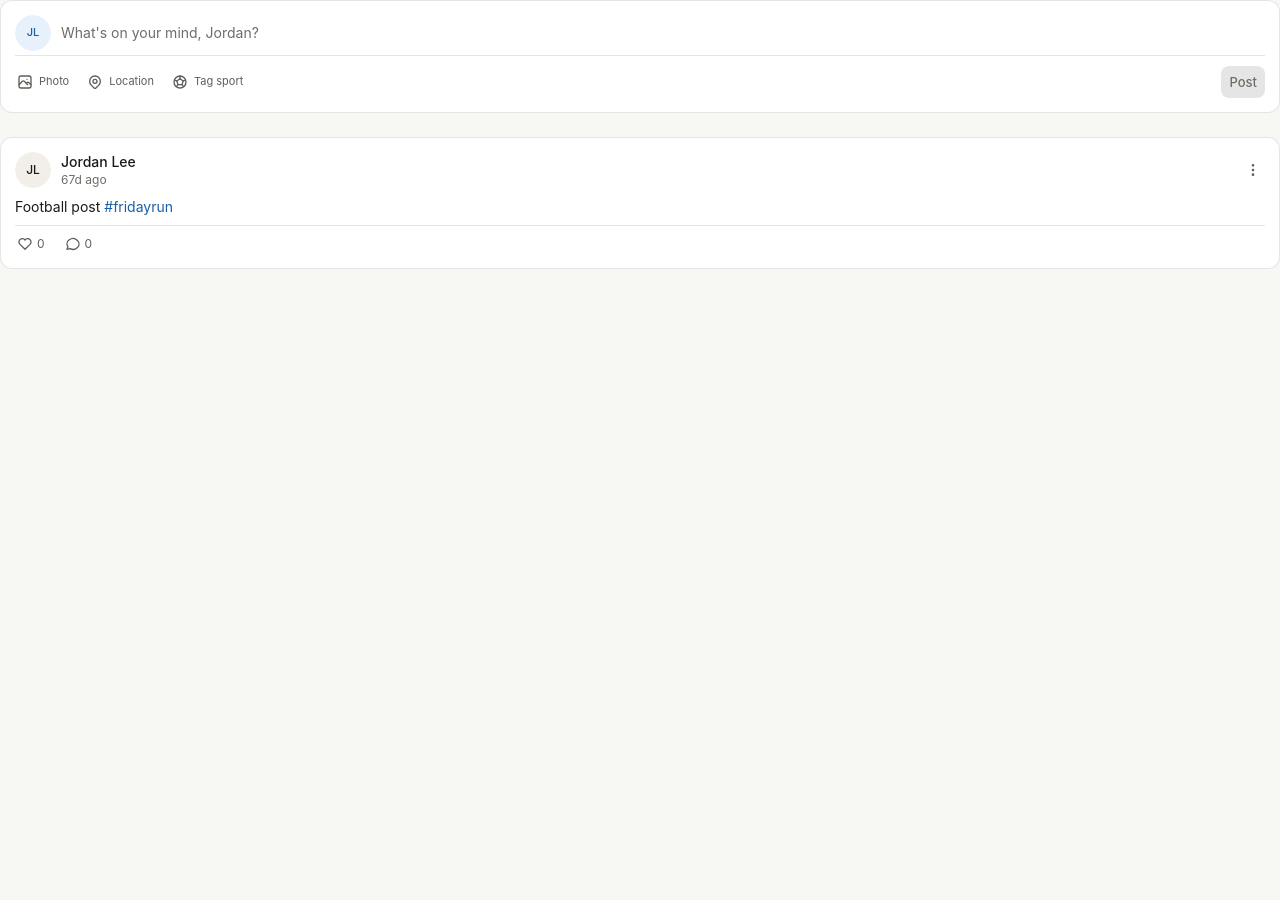
Test case: PostsTab › opens the comment dialog for the clicked post and fetches its comments
Step 1. Click the button named "comment" → (78, 244), box [63,234,94,254]
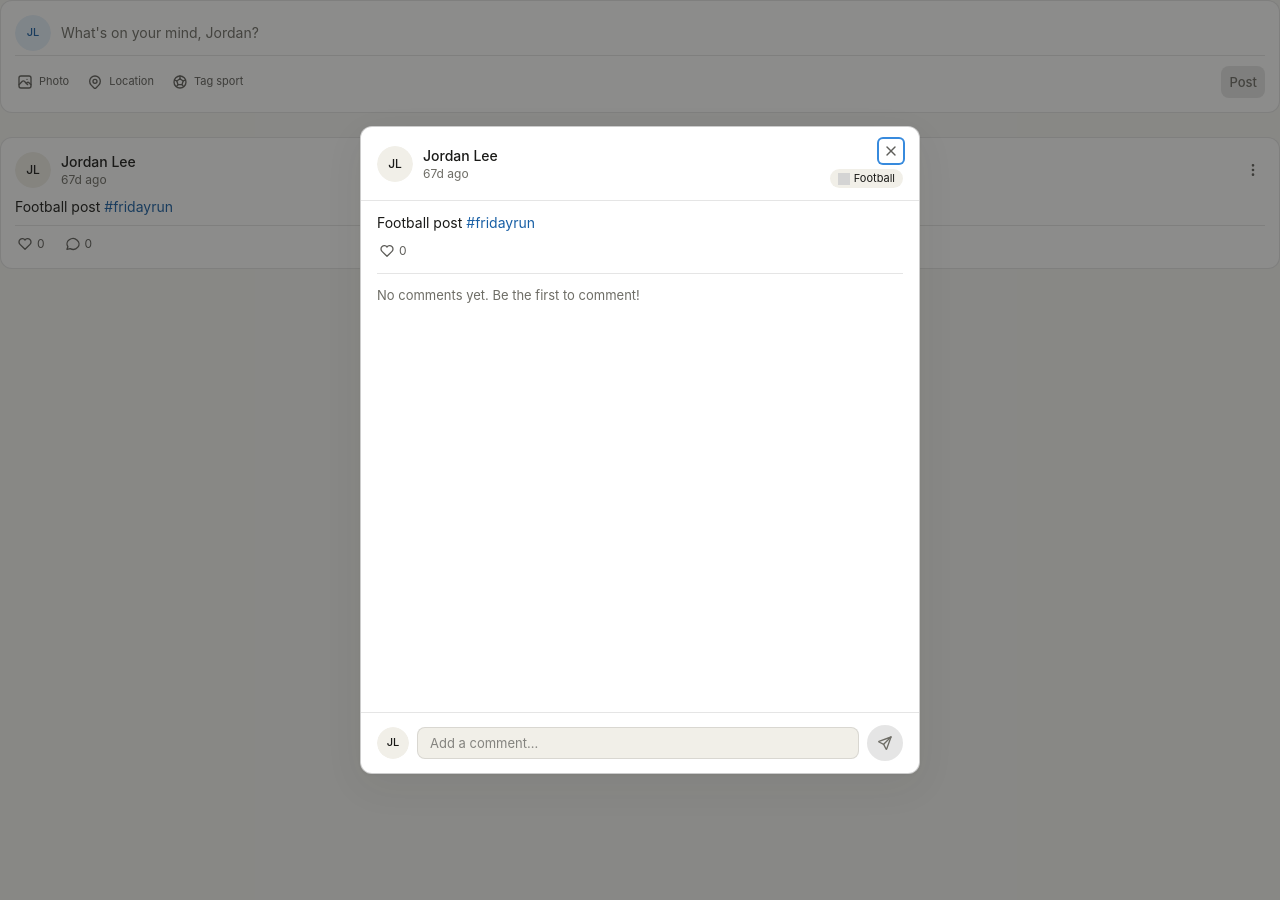
Expected: the dialog is shown, [360,126,920,774]
Expected: the dialog shows "Football post", [377,214,466,231]
